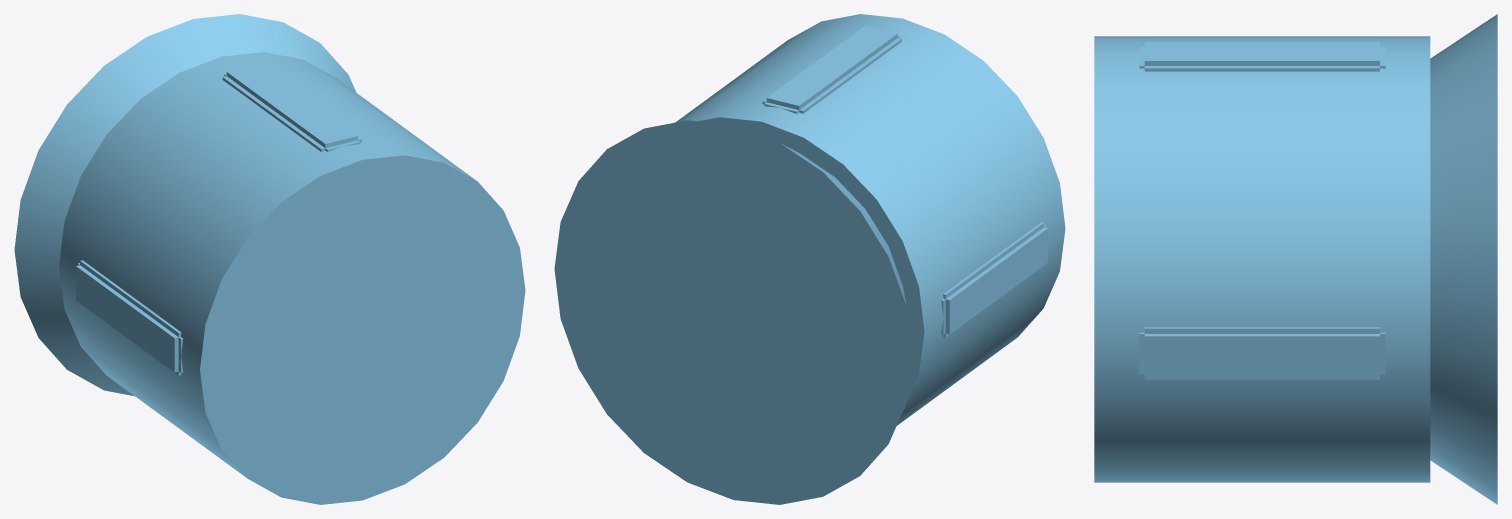
Rendered from ion_cannon_lens.glb.
3 views of the same model, side by side, from view 1: azimuth 30°, elevation 25°; view 2: azimuth 150°, elevation 25°; view 3: azimuth 270°, elevation 25° (orthographic). The views are drawn at different scales.
Parts seen in each view (by area): view 1: ion_cannon_lens; view 2: ion_cannon_lens; view 3: ion_cannon_lens.
Boxes of the visible parts, <box> form: ion_cannon_lens: <box>14,14,525,504</box>; ion_cannon_lens: <box>554,14,1065,504</box>; ion_cannon_lens: <box>1094,14,1497,504</box>.
Bounding box in the file's own units: 0.44 × 0.44 × 0.36.
